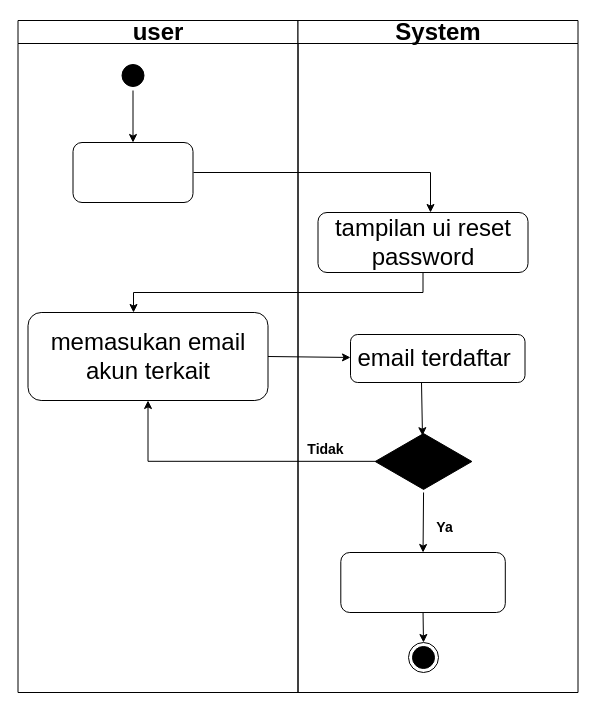
Image size: 595x710. Some labels were removed from this diagram. The centre of each missing label's shape, as x and y in pixels:
"reset password" goes at point 132,172.
"tampilan menu utama" goes at point 422,582.
